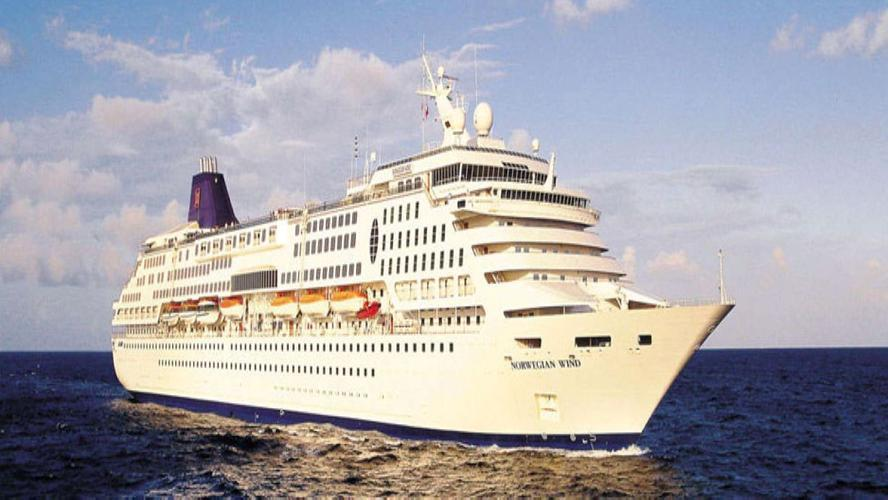Ship: (91, 130, 770, 452)
